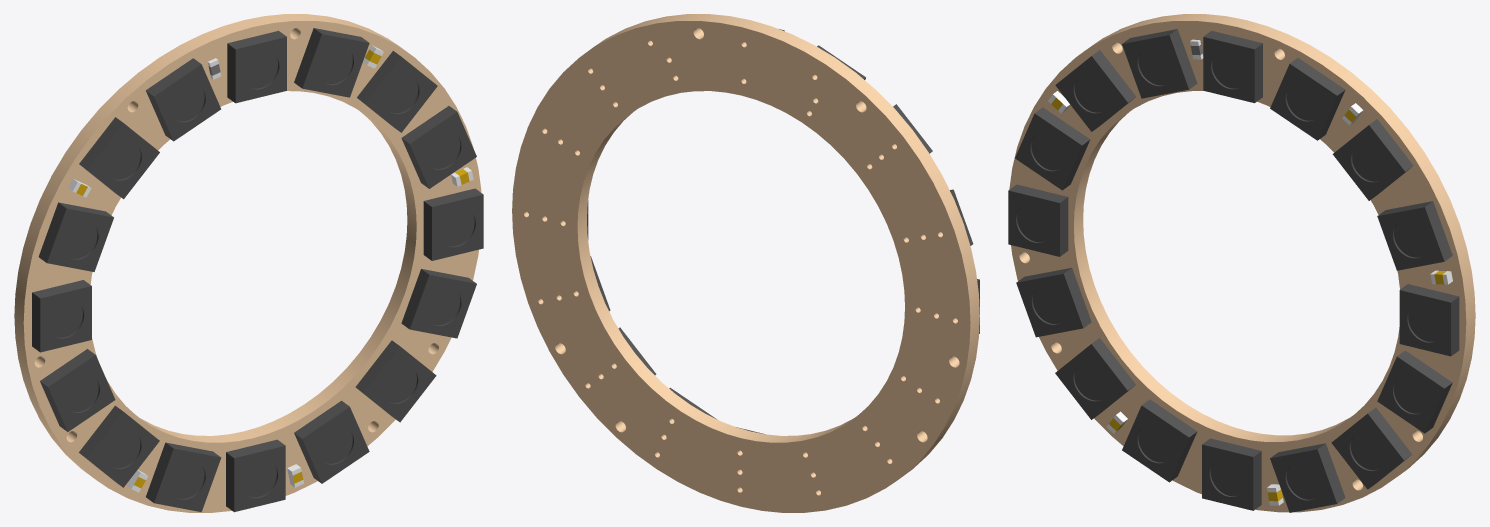
File: Adafruit NeoPixel Ring 16 B.fbx
3 views of the same model, side by side, from view 1: azimuth 30°, elevation 25°; view 2: azimuth 150°, elevation 25°; view 3: azimuth 330°, elevation 25° (orthographic).
Parts seen in each view (by area): view 1: Body2 (×16), Board; view 2: Board; view 3: Body2 (×16), Board.
Part boxes in pixels (x1=…): Body2 (×16): x1=32, y1=28, x2=483, y2=512; Board: x1=14, y1=14, x2=481, y2=512; Board: x1=512, y1=14, x2=979, y2=512; Body2 (×16): x1=1008, y1=29, x2=1459, y2=512; Board: x1=1009, y1=14, x2=1475, y2=512.
Bounding box in the file's own units: 44.45 × 44.45 × 2.97.
